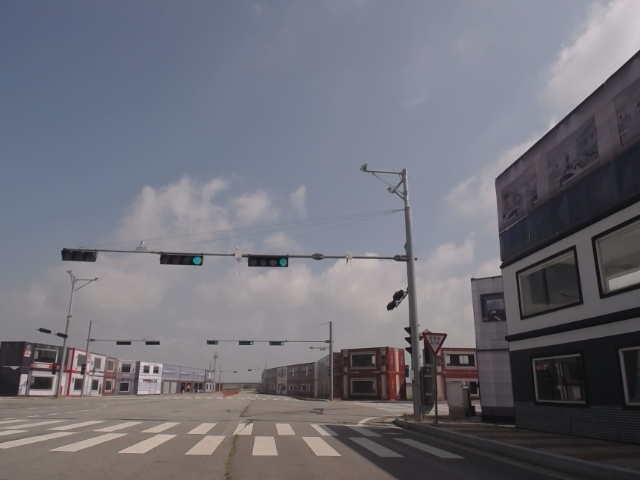straight_green_4: (163, 252, 204, 268), (246, 255, 290, 269)
